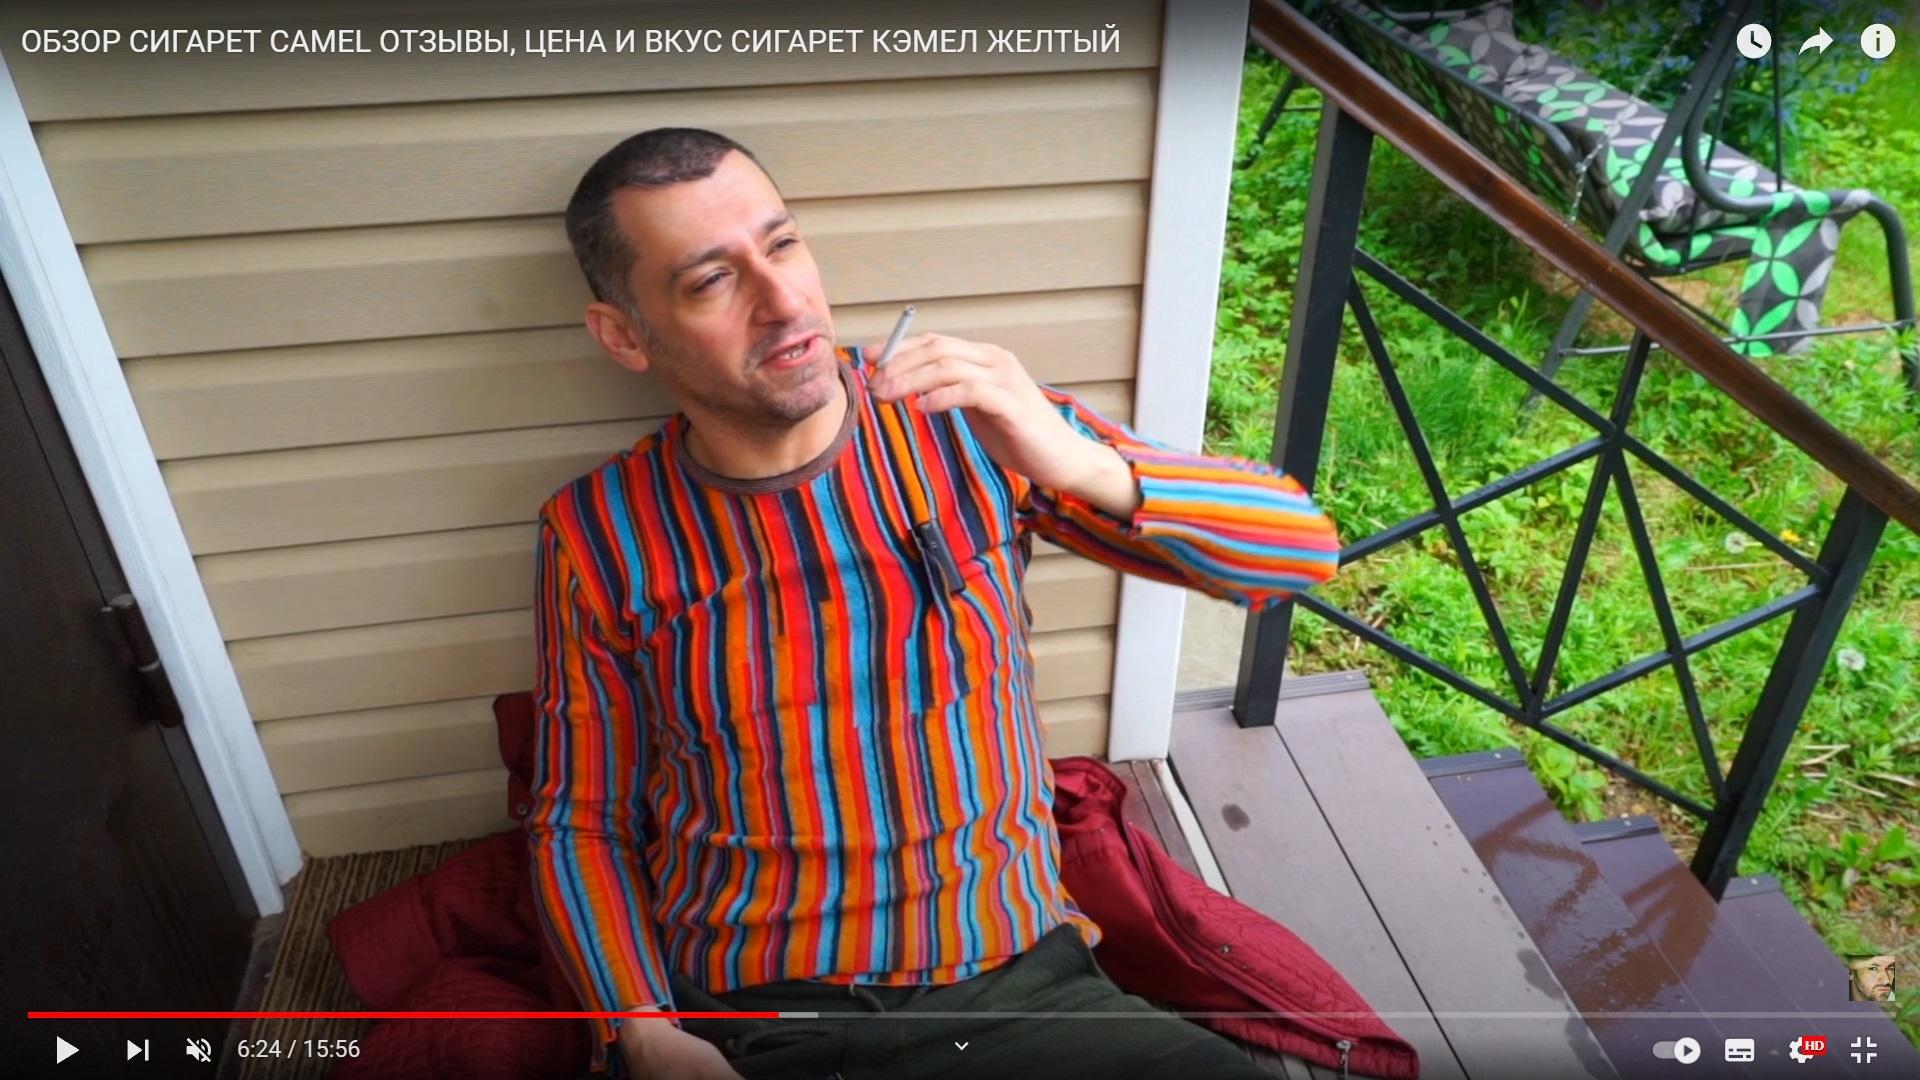cigarette: (865, 305, 916, 392)
